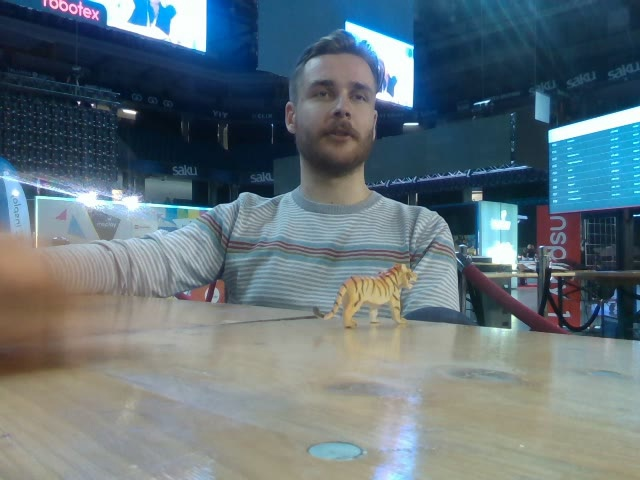toy: (313, 262, 417, 328)
